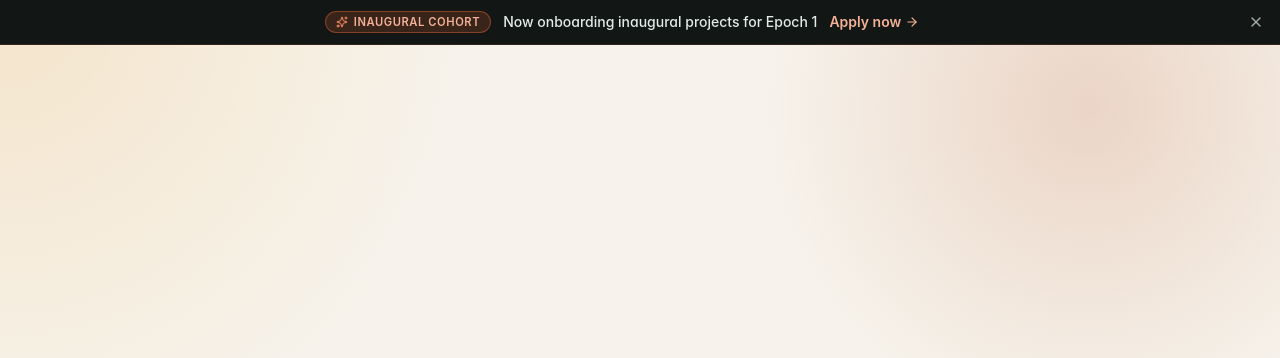
Test: InauguralBanner › hides when dismissed and writes dismissal to sessionStorage
Click the button named "dismiss announcement": (1256, 22) [1244,10,1268,34]
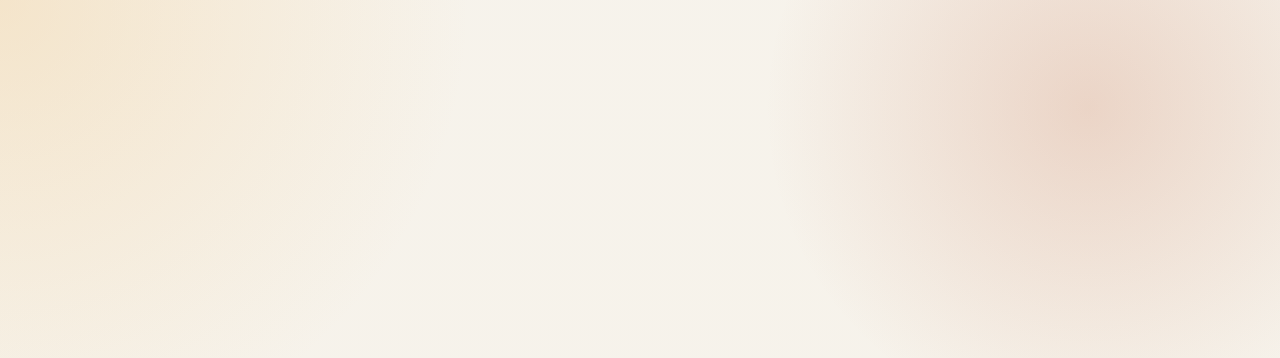
Check: the link "Inaugural Cohort" is gone
